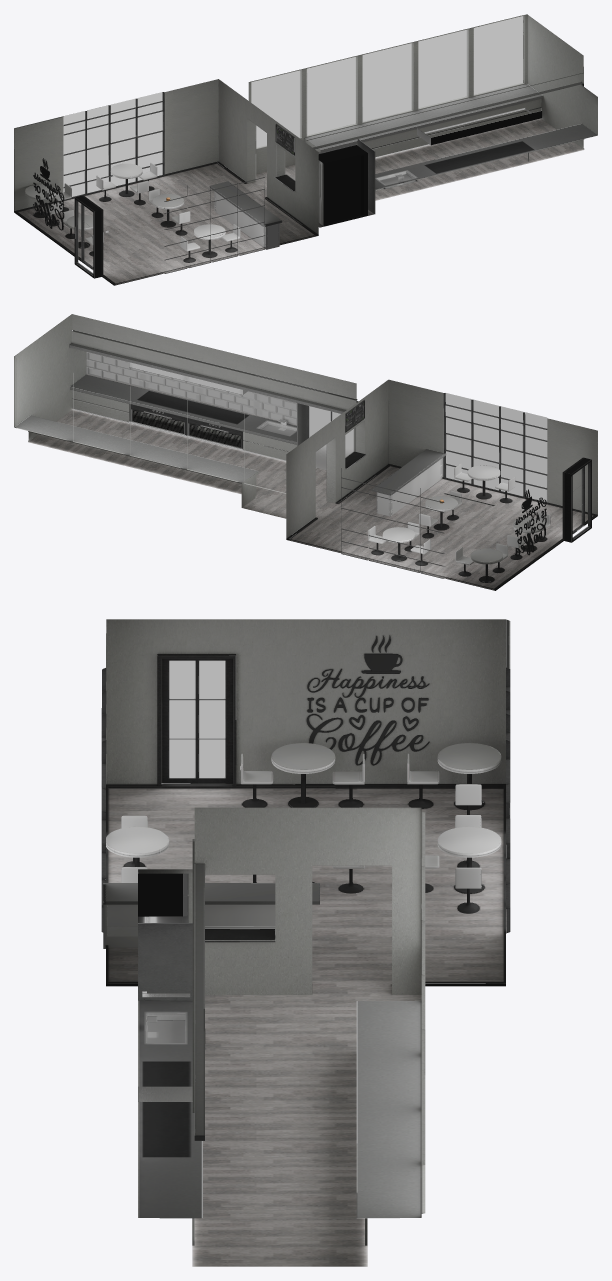
Rendered from small_cafe_cheese_burger_ori.glb.
3 renders of one model, top to bottom at view 1: azimuth 30°, elevation 25°; view 2: azimuth 150°, elevation 25°; view 3: azimuth 270°, elevation 25°, orthographic. The views are drawn at different scales.
Visible parts, largest first — view 1: SmallCafe, Fridge; view 2: SmallCafe, FDoorL; view 3: SmallCafe, Fridge.
Part boxes in pixels (bbox=[...]): SmallCafe: bbox=[14, 14, 597, 285]; Fridge: bbox=[318, 145, 367, 226]; SmallCafe: bbox=[14, 314, 597, 590]; FDoorL: bbox=[309, 406, 331, 470]; SmallCafe: bbox=[101, 619, 510, 1266]; Fridge: bbox=[138, 873, 182, 922].
Size of the model in its own units: 19.1 by 3.45 by 6.77.
7 materials, 7 textured.
